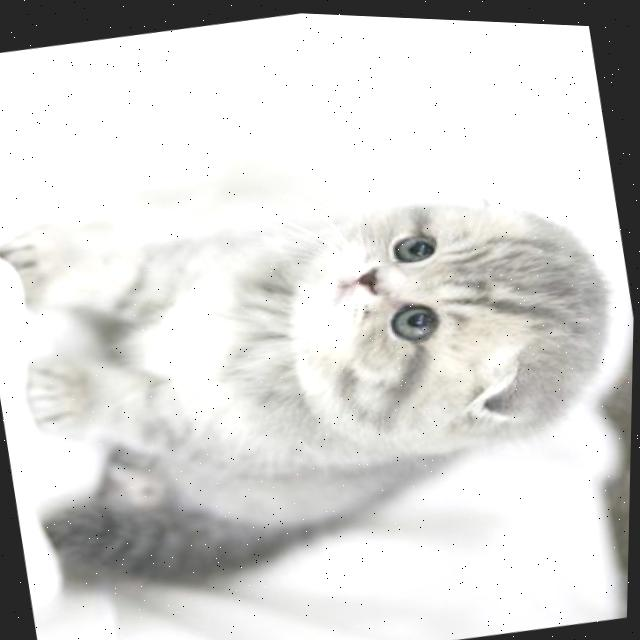Scottish Fold: (0, 119, 638, 631)
